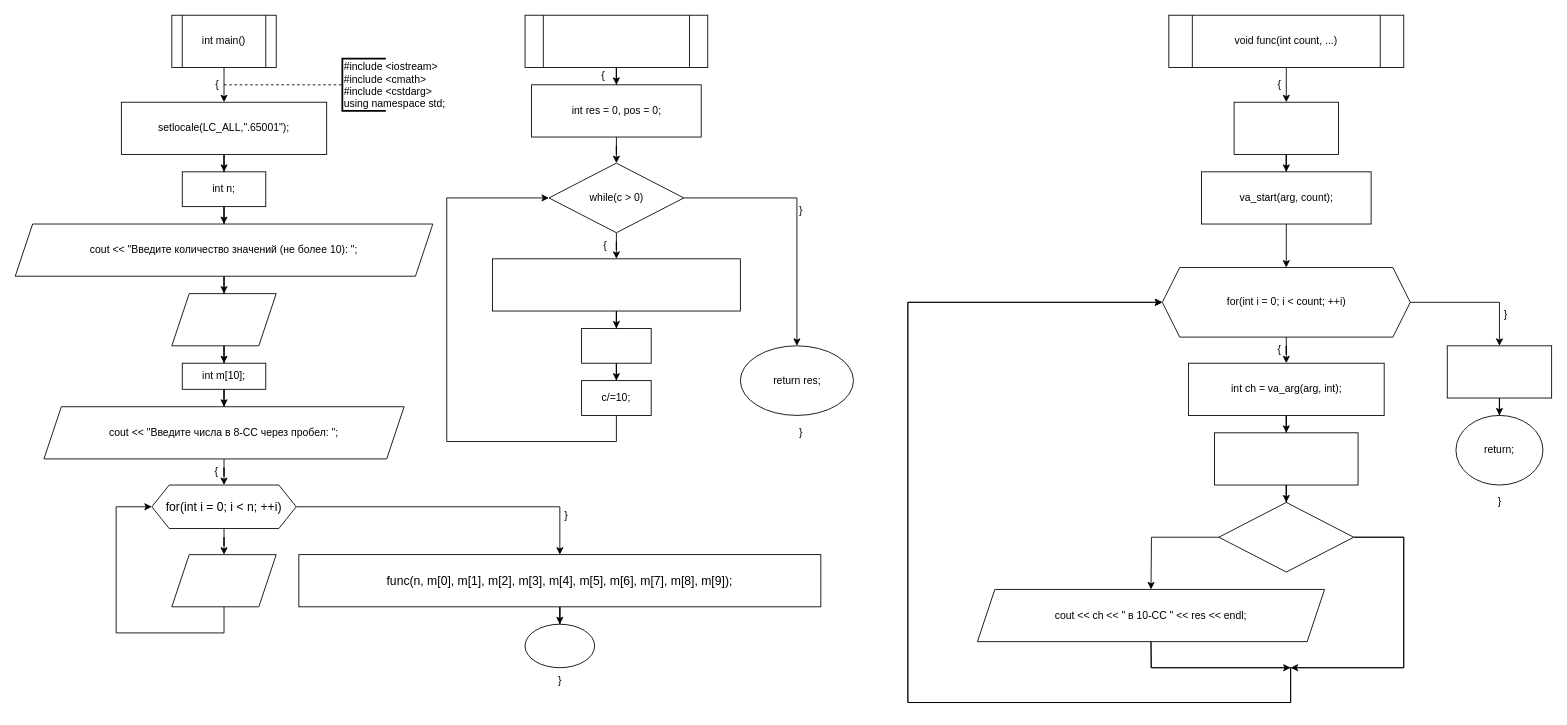
Some shapes in this 1567 by 725 pixel diagram are drawn without their labels. Each missing label, with the centre of its shape:
++pos;: point (616, 345)
cin >> m[i];: point (223, 580)
cin >> n;: point (223, 319)
if(res != 0): point (1286, 537)
int octf(int c): point (616, 40)
int res = octf(ch);: point (1286, 458)
res += (c % 10) * pow(8, pos);: point (616, 284)
return 0;: point (559, 645)
va_end(arg);: point (1499, 371)
va_list arg;: point (1285, 127)
